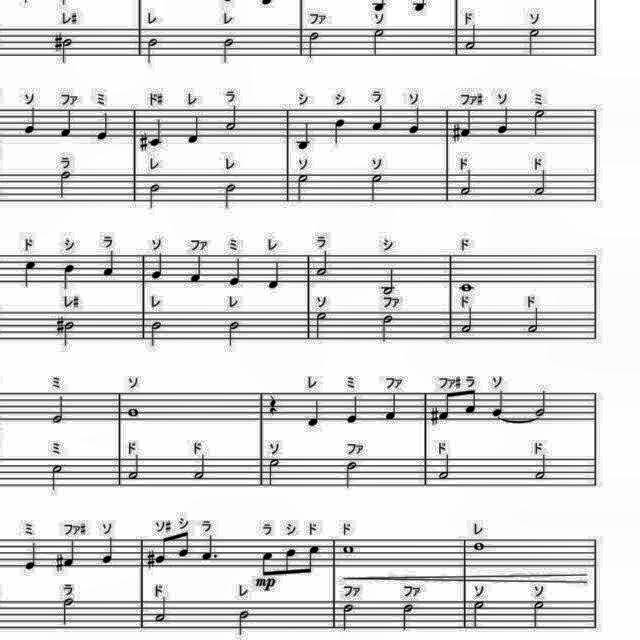Diez: (428, 403, 440, 427), (451, 121, 462, 145), (138, 132, 150, 152), (54, 550, 64, 574), (54, 314, 64, 338), (144, 549, 156, 569), (53, 33, 63, 53)
Eighth-note: (304, 542, 324, 576), (438, 388, 454, 422), (463, 387, 481, 417), (282, 546, 298, 578), (175, 530, 192, 560), (155, 534, 171, 564), (260, 550, 274, 578)
Full-note: (460, 277, 476, 297), (341, 539, 355, 557), (125, 406, 142, 418), (471, 540, 485, 552)
Half-note: (366, 29, 390, 60), (263, 458, 285, 490), (528, 107, 548, 141), (377, 267, 399, 297), (368, 172, 386, 208), (218, 34, 238, 66), (54, 168, 74, 200), (292, 172, 312, 204), (376, 313, 396, 345), (152, 594, 172, 626), (526, 598, 546, 630), (463, 23, 483, 54), (434, 451, 454, 482), (142, 34, 162, 64), (146, 182, 166, 212), (190, 453, 210, 483), (459, 304, 476, 338), (61, 594, 78, 628), (313, 310, 331, 342), (148, 320, 168, 348), (308, 29, 324, 63), (126, 453, 144, 482), (220, 106, 240, 132), (526, 26, 542, 58), (470, 598, 486, 630), (223, 183, 240, 213), (399, 602, 416, 632), (60, 35, 76, 65), (524, 307, 540, 337), (344, 460, 360, 490), (340, 602, 356, 632), (225, 319, 242, 347), (534, 455, 552, 481), (460, 168, 476, 196), (532, 168, 548, 196), (315, 248, 329, 280), (236, 608, 252, 636), (50, 463, 64, 493), (52, 393, 64, 427), (62, 320, 74, 348), (533, 392, 547, 416)
Quarter-dot: (198, 536, 224, 564)
Quarter-note: (406, 104, 426, 140), (226, 255, 246, 289), (369, 102, 389, 134), (187, 254, 206, 286), (19, 105, 39, 135), (488, 389, 508, 419), (96, 108, 112, 144), (147, 116, 165, 148), (22, 256, 38, 292), (383, 390, 401, 422), (25, 539, 41, 575), (62, 538, 80, 568), (99, 536, 118, 564), (58, 106, 74, 138), (103, 248, 119, 280), (266, 259, 282, 291), (308, 397, 324, 429), (150, 251, 167, 281), (295, 122, 313, 150), (495, 108, 513, 136), (187, 114, 203, 144), (460, 108, 476, 138), (344, 392, 358, 426), (332, 118, 348, 146), (61, 263, 75, 291)
Quarter-rest: (266, 392, 282, 416)
